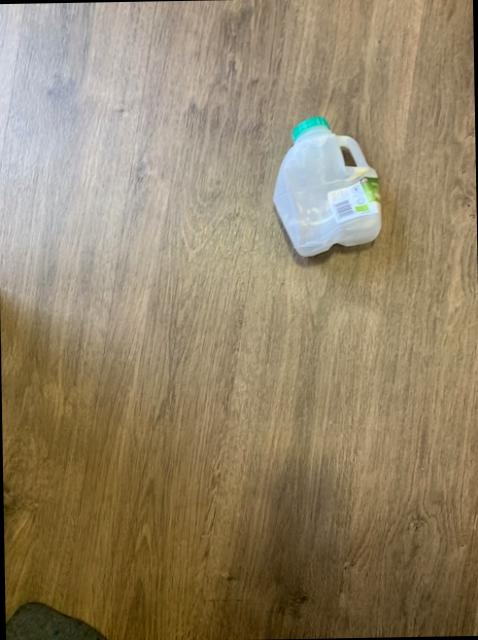plastic: (274, 116, 382, 255)
